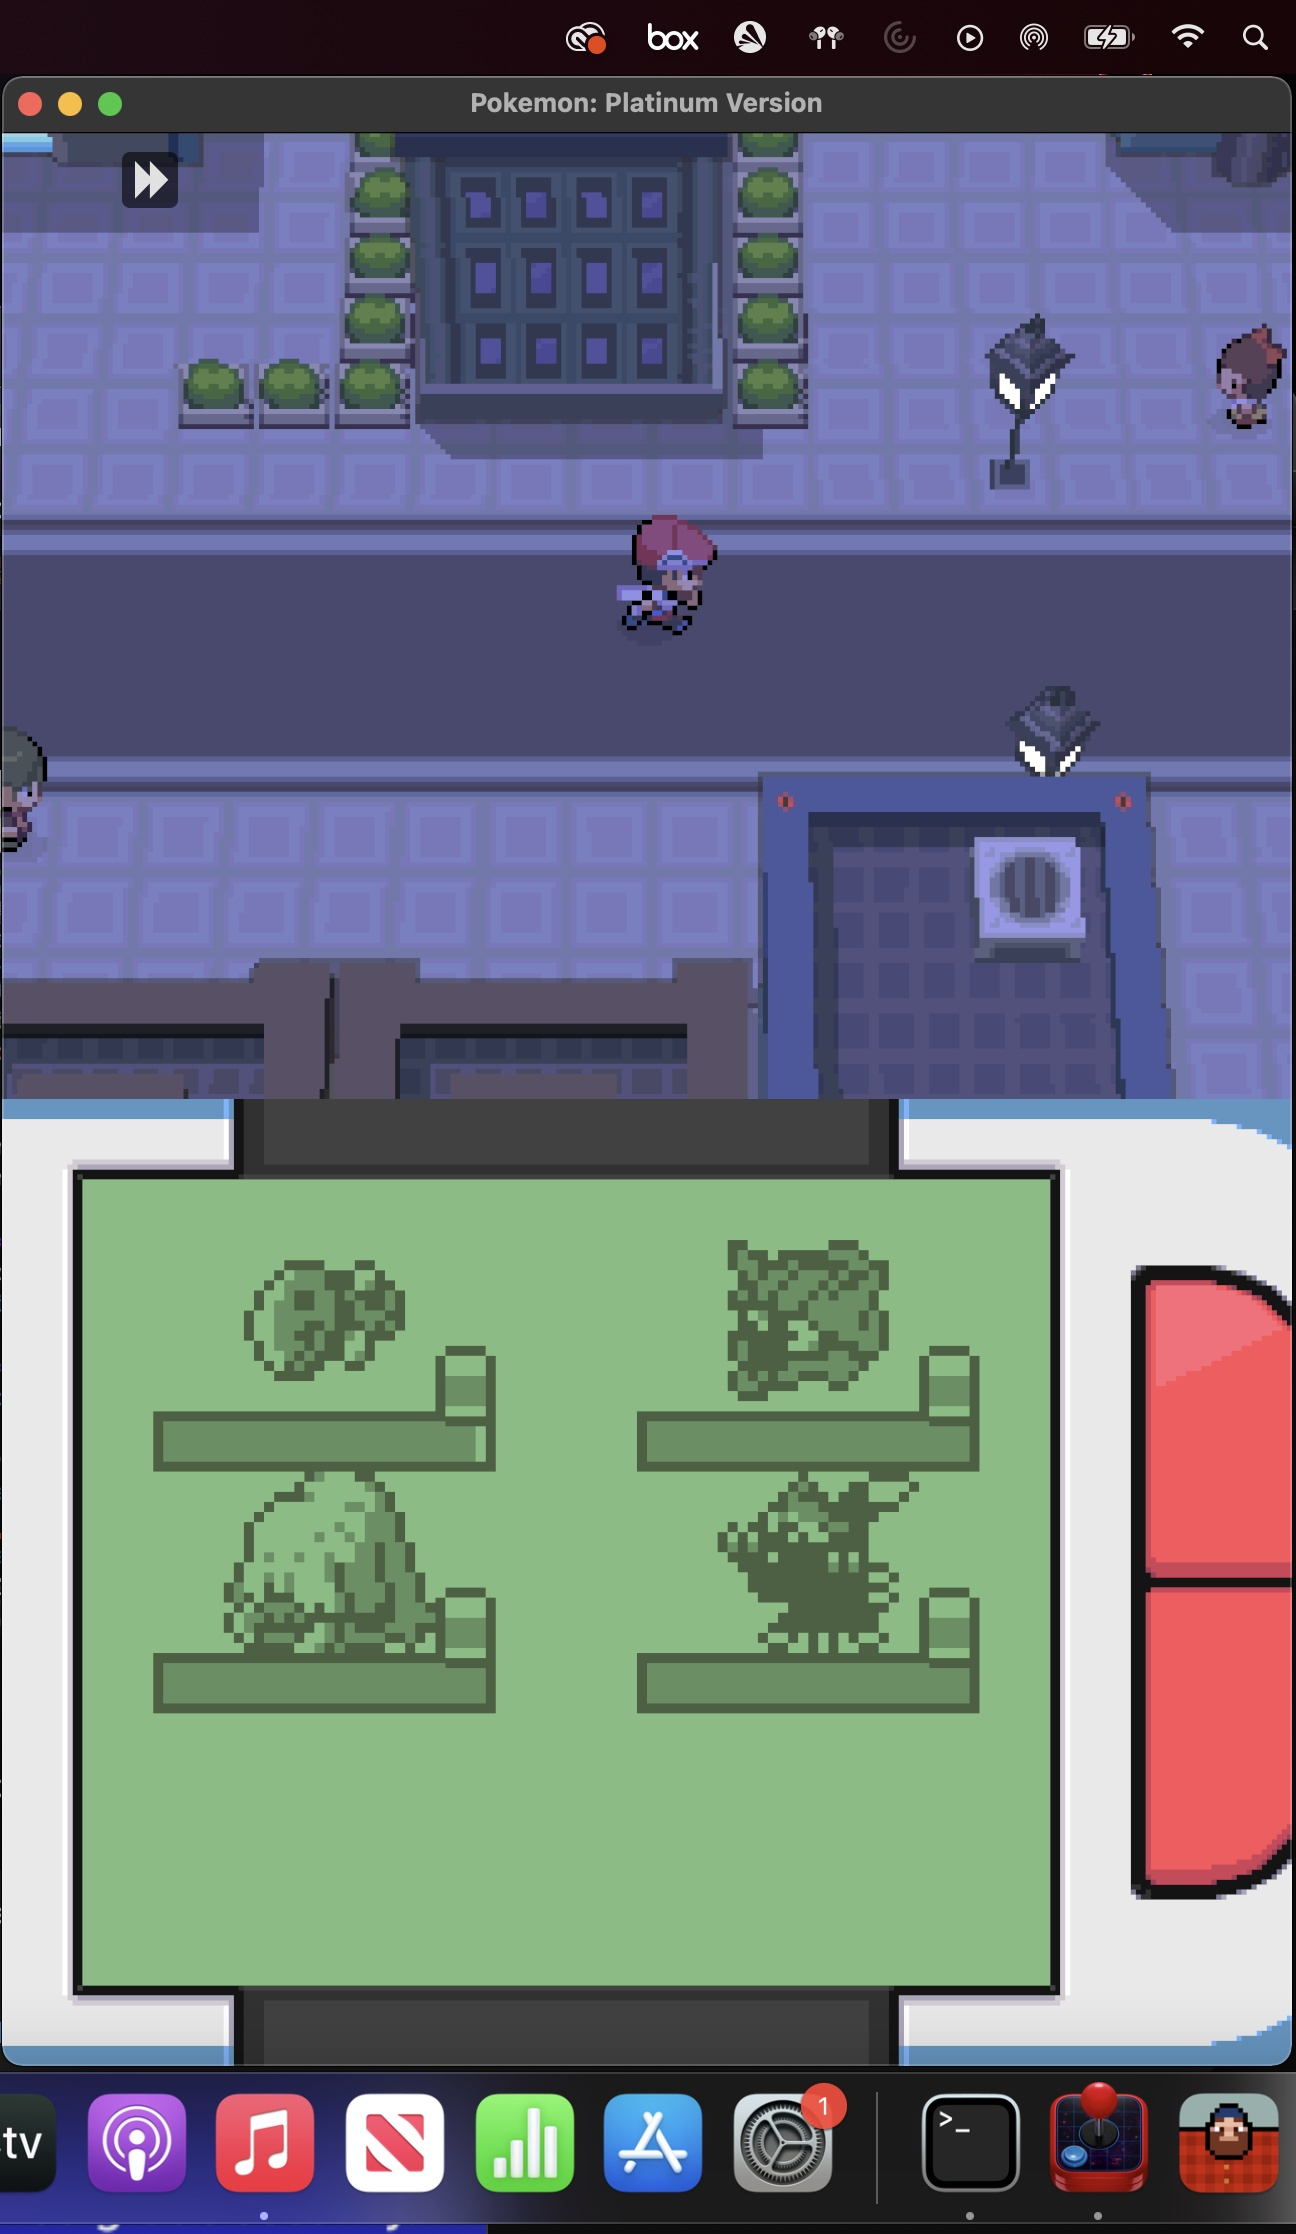player: (610, 505, 725, 647)
